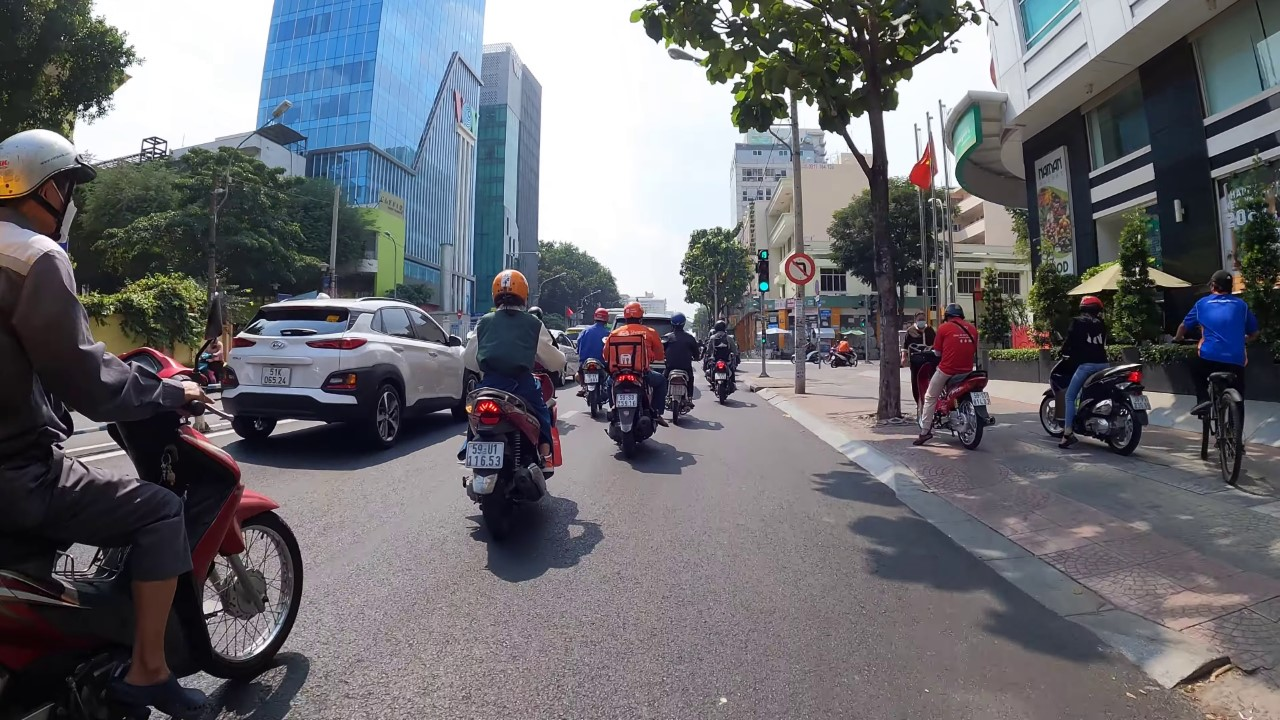cam_re_trai: (782, 250, 818, 286)
